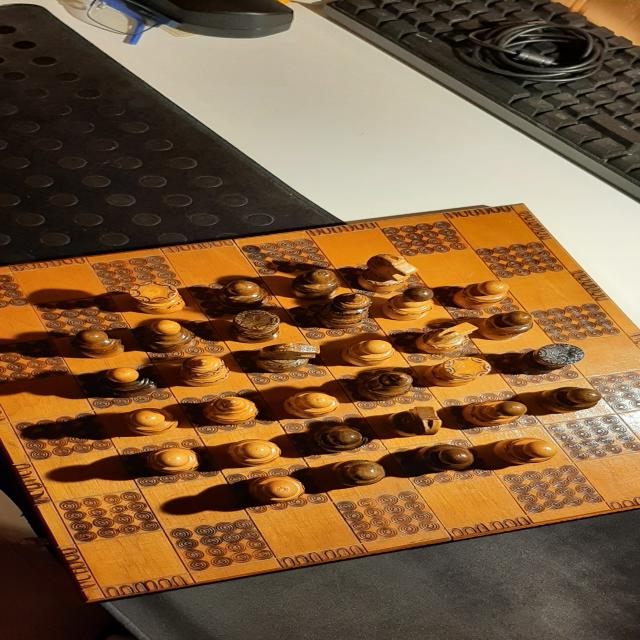black-bishop: (141, 320, 196, 352), (100, 368, 157, 398)
black-king: (314, 292, 375, 329)
black-knight: (253, 342, 321, 373), (382, 407, 442, 438)
black-pawn: (534, 386, 603, 414), (475, 311, 535, 341), (413, 444, 476, 472), (289, 269, 343, 301), (73, 329, 129, 359), (330, 459, 388, 487), (216, 280, 268, 311), (313, 425, 369, 452)
black-queen: (356, 372, 414, 401)
black-rook: (514, 343, 586, 375), (230, 309, 280, 344)
white-bishop: (459, 400, 528, 427), (380, 287, 434, 321)
white-king: (175, 355, 230, 387)
white-knight: (357, 254, 420, 292), (415, 322, 478, 354)
white-pawn: (490, 437, 560, 465), (282, 390, 341, 419), (249, 474, 306, 504), (452, 281, 509, 310), (121, 408, 179, 436), (145, 447, 204, 474), (227, 438, 282, 466), (337, 339, 393, 366)
white-queen: (202, 396, 260, 425)
white-rook: (422, 357, 492, 388), (129, 281, 187, 316)
